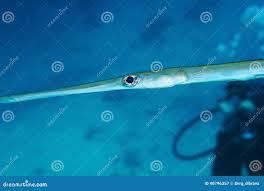Fistularia commersonii: (7, 41, 264, 114)
